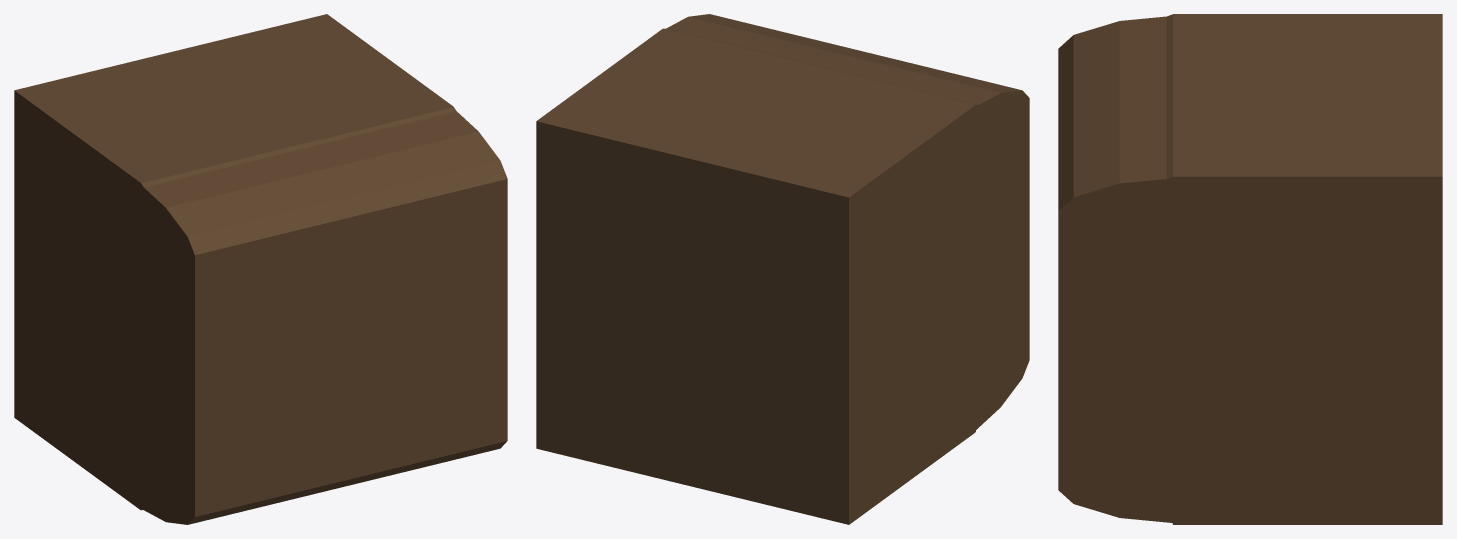
File: millwork_profile.glb
3 renders of one model, left to right at view 1: azimuth 30°, elevation 25°; view 2: azimuth 150°, elevation 25°; view 3: azimuth 270°, elevation 25°, orthographic. The views are drawn at different scales.
Parts seen in each view (by area): view 1: ServiceCasing, DoorCasing, BeadedTrim, WainscotFrame; view 2: BeadedTrim, ServiceCasing, DoorCasing, WainscotFrame; view 3: BeadedTrim, ServiceCasing, DoorCasing, WainscotFrame.
Part boxes in pixels (left/top/right/bottom): ServiceCasing: left=14, top=15, right=507, bottom=524; DoorCasing: left=14, top=14, right=507, bottom=478; BeadedTrim: left=14, top=14, right=453, bottom=510; WainscotFrame: left=14, top=17, right=507, bottom=488; BeadedTrim: left=536, top=28, right=1029, bottom=524; ServiceCasing: left=538, top=14, right=1029, bottom=520; DoorCasing: left=537, top=28, right=1029, bottom=523; WainscotFrame: left=539, top=66, right=1029, bottom=522; BeadedTrim: left=1058, top=14, right=1442, bottom=524; ServiceCasing: left=1058, top=14, right=1442, bottom=524; DoorCasing: left=1058, top=14, right=1442, bottom=524; WainscotFrame: left=1058, top=14, right=1442, bottom=524.
Size of the model in its own units: 1 by 1 by 1.
